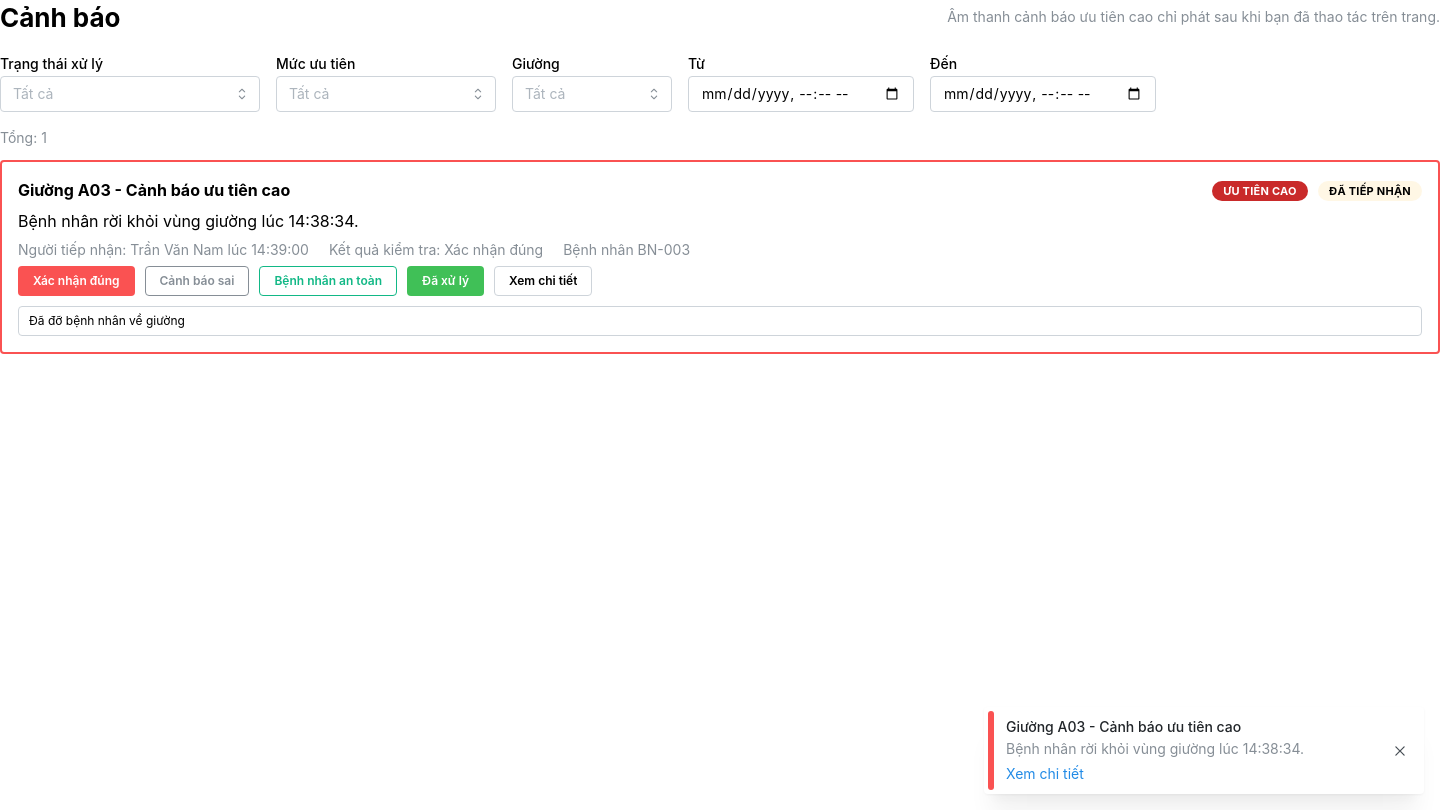
Test: AlertsPage › detail dialog shows people, outcome and links without technical values
The image size is (1440, 810).
Click the button "Xem chi tiết" at (543, 281), box [494,266,592,296]
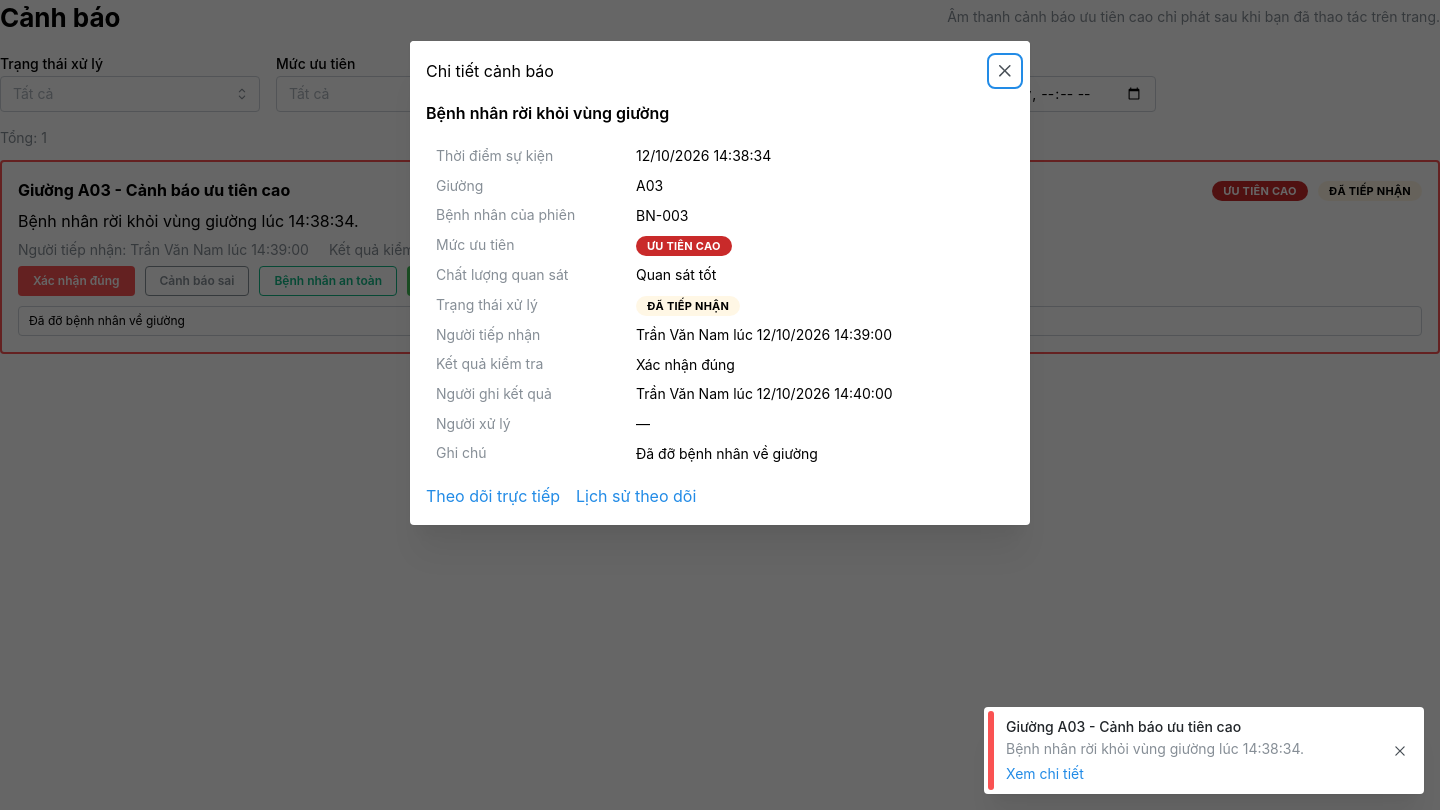
Result: the text "BN-003" is shown at [626,201,1014,230]
Result: the text "Quan sát tốt" is shown at [626,260,1014,290]
Result: the text "Trần Văn Nam lúc 12/10/2026 14:39:00" is shown 2 times at [626,320,1014,350]; [626,379,1014,409]
